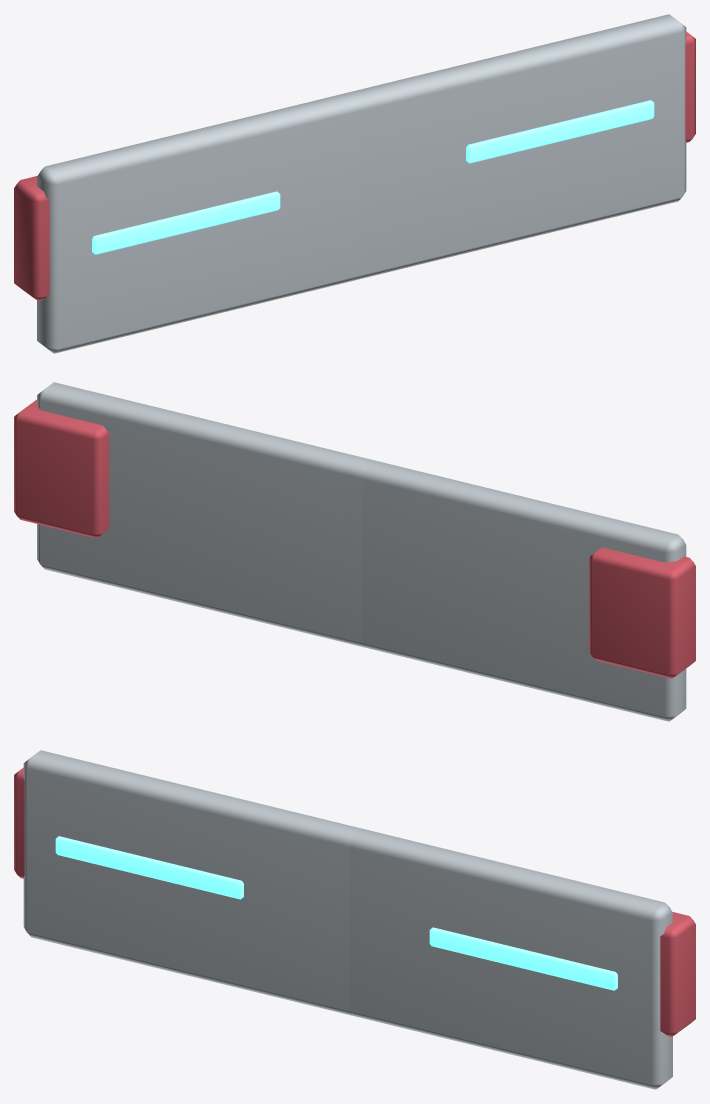
The model's file is wing_pack.glb.
3 renders of one model, top to bottom at view 1: azimuth 30°, elevation 25°; view 2: azimuth 150°, elevation 25°; view 3: azimuth 330°, elevation 25°, orthographic.
Visible parts, largest first — view 1: wing | swept block.001, wing | swept block, wing | coral tip, wing | ion strip, wing | ion strip.001, wing | coral tip.001; view 2: wing | swept block.001, wing | swept block, wing | coral tip, wing | coral tip.001; view 3: wing | swept block, wing | swept block.001, wing | coral tip.001, wing | ion strip.001, wing | ion strip, wing | coral tip.
Part boxes in pixels (x1,y1,x2,y2): wing | swept block.001: [347, 14, 686, 279]; wing | swept block: [37, 93, 379, 353]; wing | coral tip: [14, 176, 49, 300]; wing | ion strip: [92, 191, 280, 254]; wing | ion strip.001: [466, 100, 654, 163]; wing | coral tip.001: [685, 31, 695, 142]; wing | swept block.001: [37, 382, 375, 647]; wing | swept block: [342, 461, 686, 721]; wing | coral tip: [589, 547, 695, 678]; wing | coral tip.001: [14, 399, 109, 538]; wing | swept block: [23, 750, 362, 1015]; wing | swept block.001: [335, 829, 672, 1089]; wing | coral tip.001: [660, 912, 695, 1036]; wing | ion strip.001: [429, 927, 617, 990]; wing | ion strip: [55, 836, 243, 899]; wing | coral tip: [14, 767, 24, 878].
Size of the model in its own units: 4.62 by 1.2 by 0.3925.
